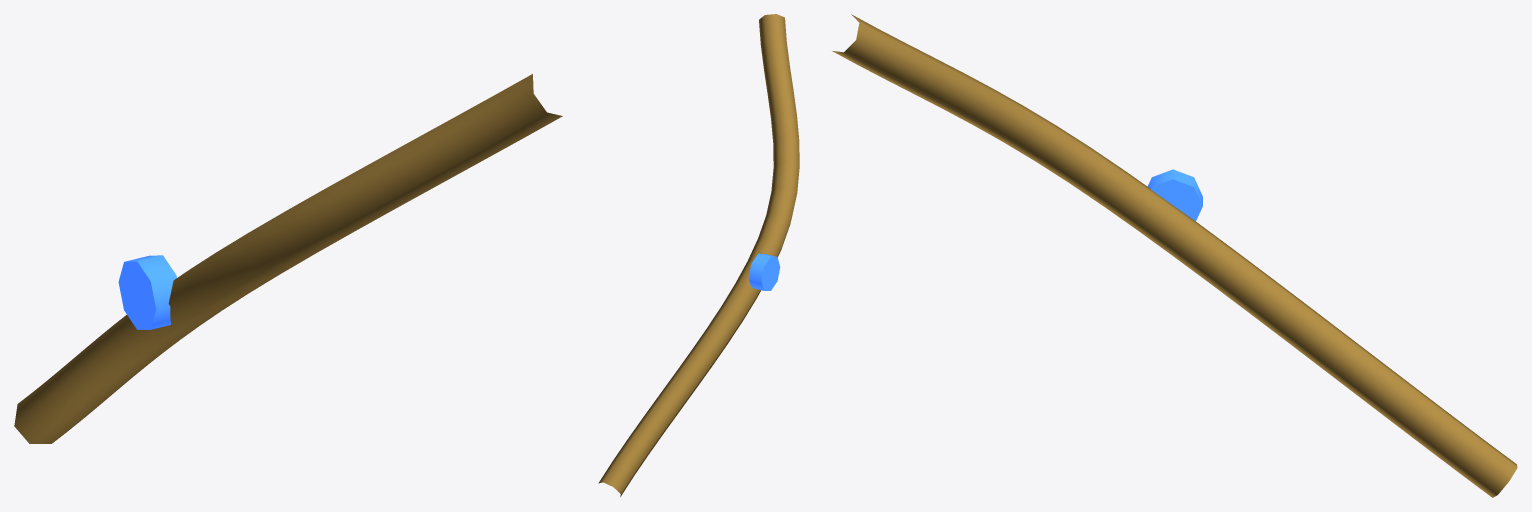
The model's file is tower_lance_rate_s2.glb.
3 views of the same model, side by side, from view 1: azimuth 30°, elevation 25°; view 2: azimuth 150°, elevation 25°; view 3: azimuth 270°, elevation 25° (orthographic). The views are drawn at different scales.
Parts seen in each view (by area): view 1: lance_coolant_line, lance_up_rate_l2_stud; view 2: lance_coolant_line, lance_up_rate_l2_stud; view 3: lance_coolant_line, lance_up_rate_l2_stud.
Boxes of the visible parts, box(x1,y1,x2,y2) form: lance_coolant_line: box(14, 74, 562, 443); lance_up_rate_l2_stud: box(118, 255, 176, 329); lance_coolant_line: box(598, 14, 799, 497); lance_up_rate_l2_stud: box(748, 253, 780, 290); lance_coolant_line: box(832, 14, 1517, 497); lance_up_rate_l2_stud: box(1147, 169, 1202, 221).
Bounding box in the file's own units: 0.1919 × 0.5305 × 0.6457.
